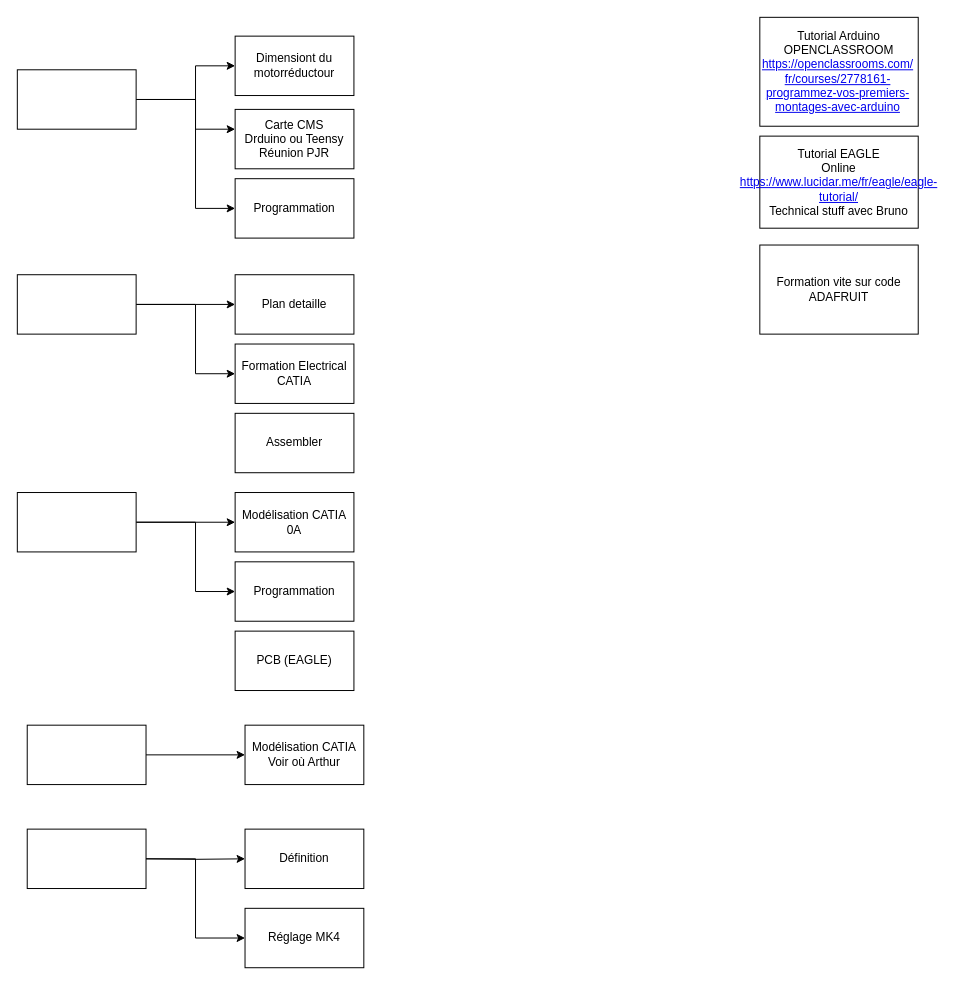
The diagram is 954 pixels wide and 985 high, and some of its shapes have lost their labels. The shapes that lost their labels are listed below. From the top down, each one's centre as x and y in pixels, then its label:
pixel 76 99: Boîte à vitesses
pixel 76 304: Faisceau
pixel 76 522: Tableau de board
pixel 86 754: Pallete (custon - 1 0A)
pixel 86 858: Sensor (custon - 1 0A)
